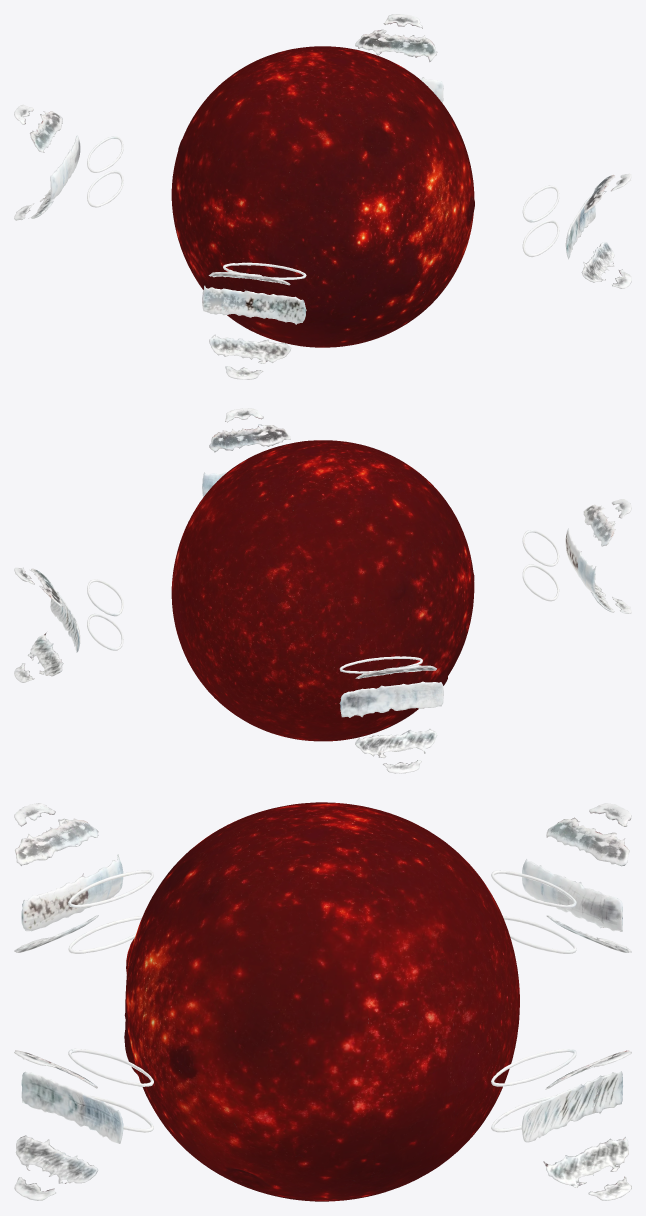
Rendered from pulsar.glb.
3 renders of one model, top to bottom at view 1: azimuth 30°, elevation 25°; view 2: azimuth 150°, elevation 25°; view 3: azimuth 270°, elevation 25°, orthographic. The views are drawn at different scales.
Bounding box in the file's own units: 1.87 × 1.2 × 1.88.
Materials: 1 (1 with a texture image).
